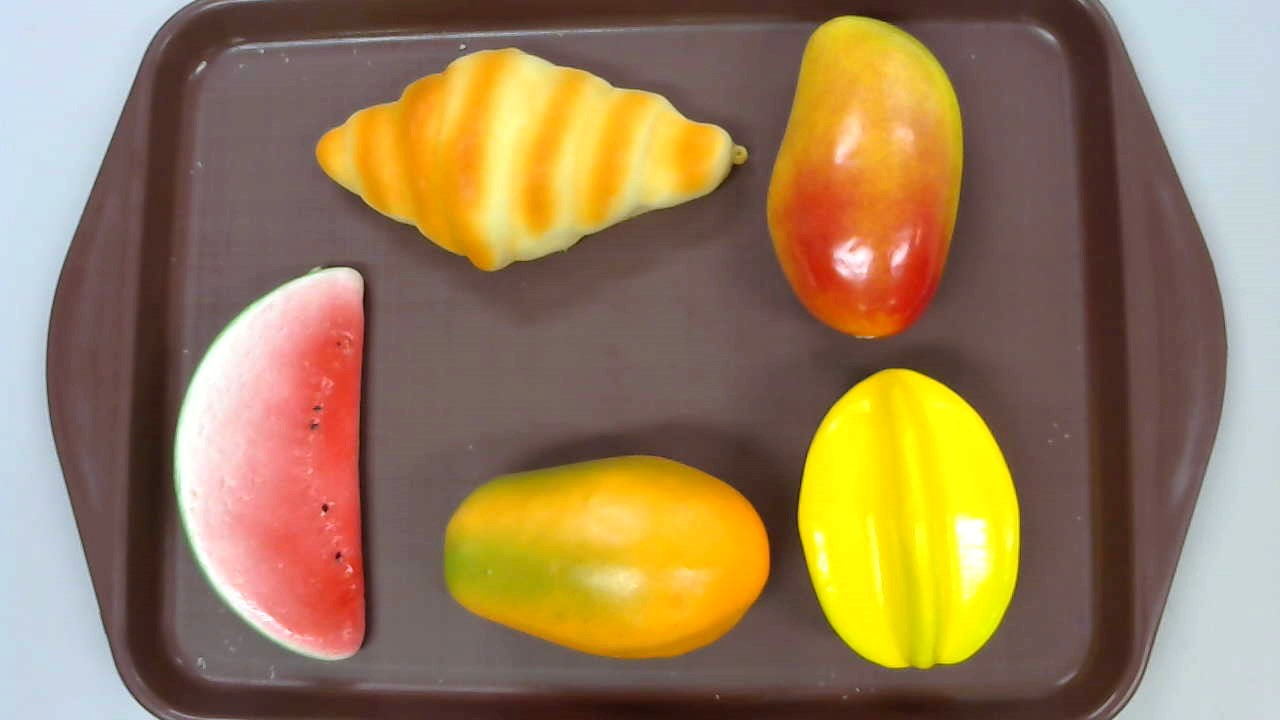croissant: (315, 47, 748, 270)
papaya: (441, 456, 771, 660)
red mango: (766, 16, 963, 340)
star fruit: (797, 367, 1021, 671)
watermelon: (172, 266, 366, 662)
